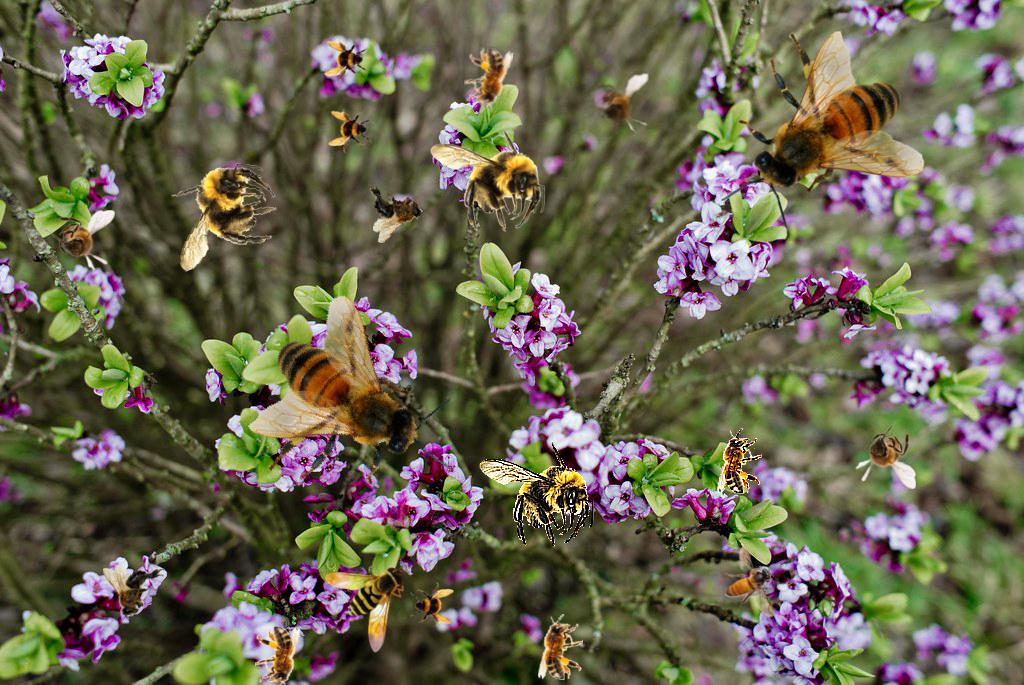Bee: (215, 270, 478, 536), (721, 31, 925, 230), (160, 154, 283, 283), (430, 125, 545, 232), (479, 440, 594, 547), (325, 565, 407, 653), (580, 71, 657, 141), (365, 173, 428, 245), (855, 419, 916, 489), (45, 210, 115, 271), (460, 44, 514, 117), (725, 546, 775, 617), (103, 565, 165, 618), (717, 428, 762, 494), (538, 614, 583, 680), (255, 626, 300, 685), (410, 582, 454, 626), (324, 39, 368, 83), (328, 109, 372, 153)
